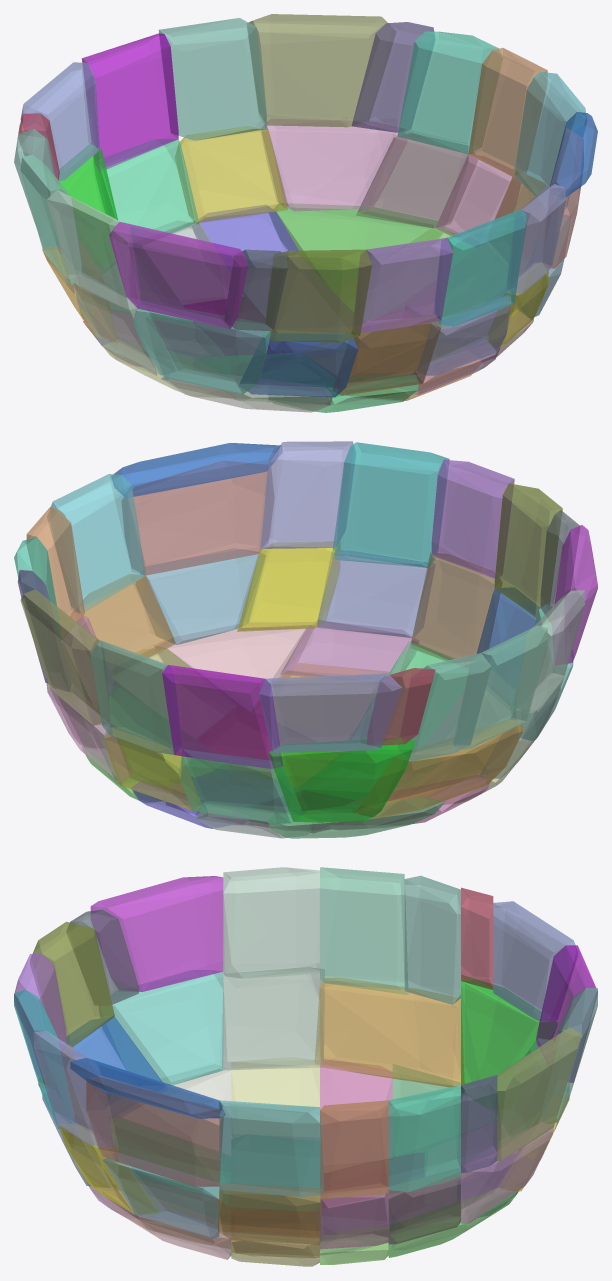
File: bowl_round.dae
The picture shows the model from 3 angles, top to bottom: view 1: azimuth 30°, elevation 25°; view 2: azimuth 150°, elevation 25°; view 3: azimuth 270°, elevation 25°; orthographic projection.
Visible parts, largest first — view 1: Shape_IndexedFaceSet_051, Shape_IndexedFaceSet_042, Shape_IndexedFaceSet_043, Shape_IndexedFaceSet_044, Shape_IndexedFaceSet_036, Shape_IndexedFaceSet_040, Shape_IndexedFaceSet_020, Shape_IndexedFaceSet_016, Shape_IndexedFaceSet_041, Shape_IndexedFaceSet_015, Shape_IndexedFaceSet_039, Shape_IndexedFaceSet_026 (+40 smaller); view 2: Shape_IndexedFaceSet_046, Shape_IndexedFaceSet_026, Shape_IndexedFaceSet_036, Shape_IndexedFaceSet_049, Shape_IndexedFaceSet_031, Shape_IndexedFaceSet_034, Shape_IndexedFaceSet_028, Shape_IndexedFaceSet_029, Shape_IndexedFaceSet_025, Shape_IndexedFaceSet_011, Shape_IndexedFaceSet_004, Shape_IndexedFaceSet_022 (+40 smaller); view 3: Shape_IndexedFaceSet_011, Shape_IndexedFaceSet_044, Shape_IndexedFaceSet_016, Shape_IndexedFaceSet_046, Shape_IndexedFaceSet_018, Shape_IndexedFaceSet_032, Shape_IndexedFaceSet_017, Shape_IndexedFaceSet_031, Shape_IndexedFaceSet_034, Shape_IndexedFaceSet_049, Shape_IndexedFaceSet_007, Shape_IndexedFaceSet_020 (+39 smaller).
Boxes of the visible parts, bbox=[...] form: Shape_IndexedFaceSet_051: bbox=[247, 14, 395, 127]; Shape_IndexedFaceSet_042: bbox=[158, 18, 266, 140]; Shape_IndexedFaceSet_043: bbox=[261, 119, 407, 211]; Shape_IndexedFaceSet_044: bbox=[109, 221, 247, 328]; Shape_IndexedFaceSet_036: bbox=[81, 33, 178, 171]; Shape_IndexedFaceSet_040: bbox=[397, 31, 502, 153]; Shape_IndexedFaceSet_020: bbox=[264, 249, 371, 342]; Shape_IndexedFaceSet_016: bbox=[133, 301, 271, 394]; Shape_IndexedFaceSet_041: bbox=[175, 126, 287, 223]; Shape_IndexedFaceSet_015: bbox=[269, 204, 443, 291]; Shape_IndexedFaceSet_039: bbox=[356, 133, 477, 228]; Shape_IndexedFaceSet_026: bbox=[433, 210, 526, 326]; Shape_IndexedFaceSet_046: bbox=[121, 460, 273, 575]; Shape_IndexedFaceSet_026: bbox=[332, 442, 449, 567]; Shape_IndexedFaceSet_036: bbox=[162, 665, 282, 768]; Shape_IndexedFaceSet_049: bbox=[259, 673, 401, 752]; Shape_IndexedFaceSet_031: bbox=[47, 474, 145, 614]; Shape_IndexedFaceSet_034: bbox=[269, 737, 414, 822]; Shape_IndexedFaceSet_028: bbox=[260, 441, 355, 548]; Shape_IndexedFaceSet_029: bbox=[136, 549, 265, 644]; Shape_IndexedFaceSet_025: bbox=[317, 550, 435, 637]; Shape_IndexedFaceSet_011: bbox=[355, 719, 523, 818]; Shape_IndexedFaceSet_004: bbox=[154, 622, 314, 711]; Shape_IndexedFaceSet_022: bbox=[431, 459, 514, 578]; Shape_IndexedFaceSet_011: bbox=[315, 978, 464, 1087]; Shape_IndexedFaceSet_044: bbox=[90, 876, 223, 991]; Shape_IndexedFaceSet_016: bbox=[99, 970, 223, 1085]; Shape_IndexedFaceSet_046: bbox=[86, 1076, 223, 1186]; Shape_IndexedFaceSet_018: bbox=[223, 867, 319, 978]; Shape_IndexedFaceSet_032: bbox=[320, 867, 408, 994]; Shape_IndexedFaceSet_017: bbox=[222, 967, 324, 1069]; Shape_IndexedFaceSet_031: bbox=[219, 1100, 324, 1196]; Shape_IndexedFaceSet_034: bbox=[461, 975, 557, 1108]; Shape_IndexedFaceSet_049: bbox=[493, 901, 577, 1021]; Shape_IndexedFaceSet_007: bbox=[320, 1059, 392, 1172]; Shape_IndexedFaceSet_020: bbox=[30, 921, 114, 1047].
Bounding box in the file's own units: 0.1338 × 0.1338 × 0.059.
